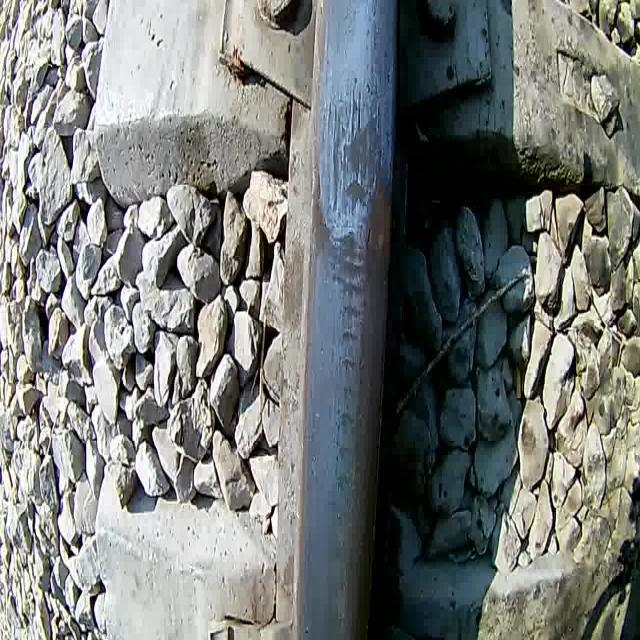Squats: (323, 75, 396, 219), (332, 226, 366, 499), (361, 178, 398, 266), (307, 157, 333, 265)
